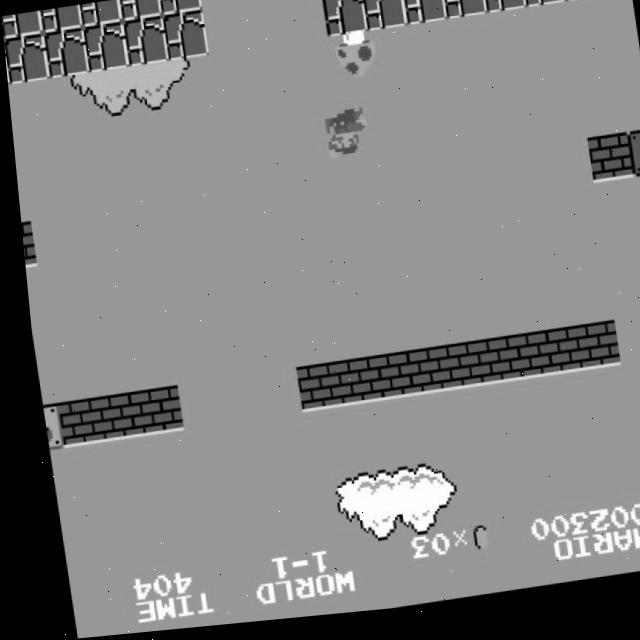1- brick_block: (583, 144, 630, 195), (566, 331, 613, 382), (49, 398, 96, 449), (447, 347, 494, 397), (407, 352, 454, 402), (367, 357, 414, 407), (288, 367, 335, 417), (527, 337, 573, 387), (487, 342, 533, 392), (328, 362, 374, 412), (129, 388, 175, 438), (89, 393, 135, 443), (17, 220, 31, 268)
11- little_mario: (322, 114, 370, 167)
12- mushroom: (331, 34, 381, 89)
13- mystery_block: (35, 403, 55, 450)
17- undestructible_block: (42, 28, 89, 80), (82, 23, 129, 74), (162, 13, 208, 64), (122, 18, 168, 69), (3, 34, 48, 85), (321, 0, 367, 44), (360, 0, 407, 39), (400, 0, 447, 34), (440, 0, 487, 29), (79, 1, 123, 29), (39, 6, 83, 34), (1, 11, 43, 39), (480, 0, 527, 23), (119, 0, 163, 24), (158, 0, 202, 19), (520, 0, 566, 18), (560, 0, 606, 13), (600, 0, 630, 9)
3- empty_block: (623, 141, 640, 190)
